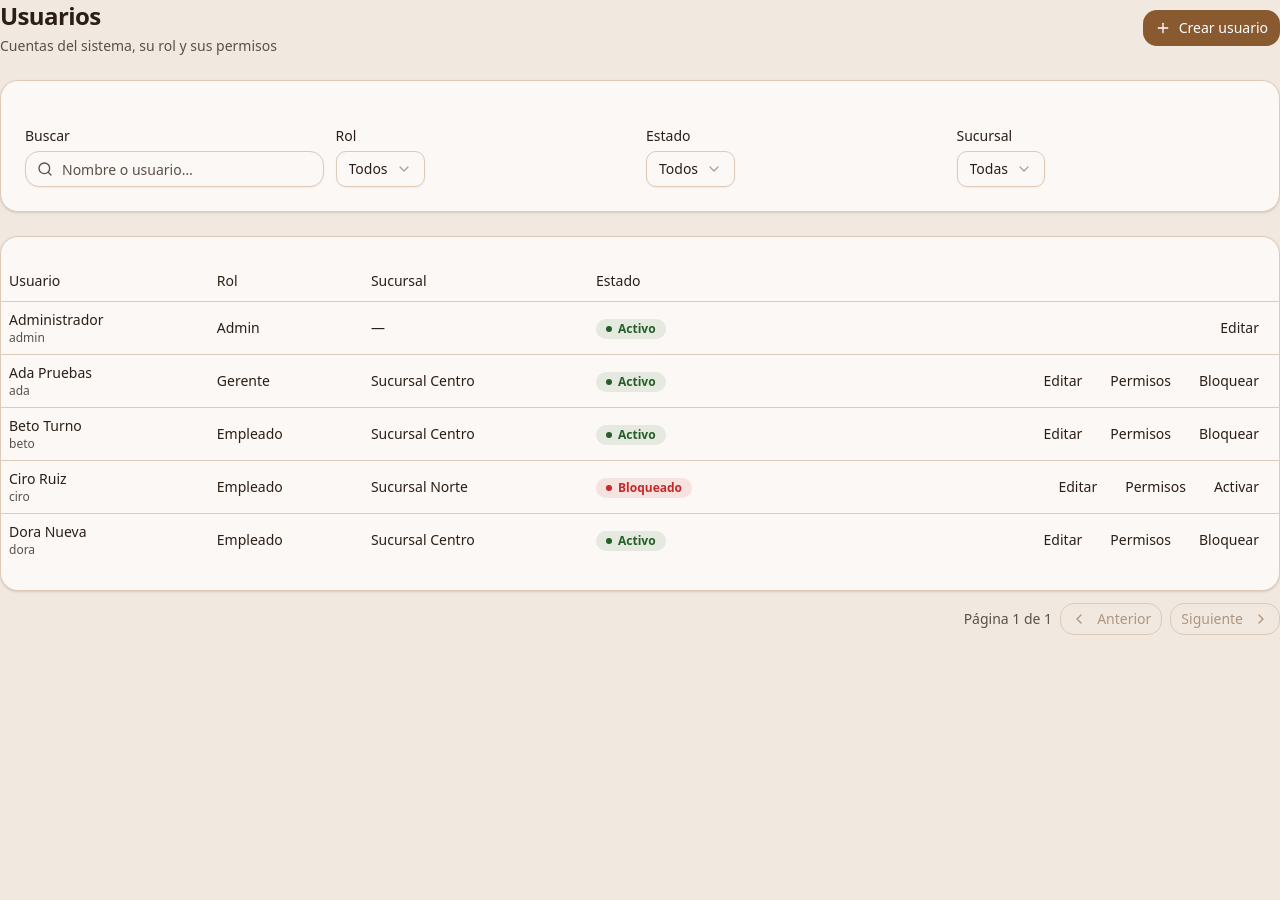
Test: Gestión de usuarios › el Admin crea un Empleado eligiendo la sucursal
Check: the text "Beto Turno" is shown, box [9, 416, 82, 434]
Click the button "Crear usuario": (1211, 28) [1143, 10, 1279, 46]
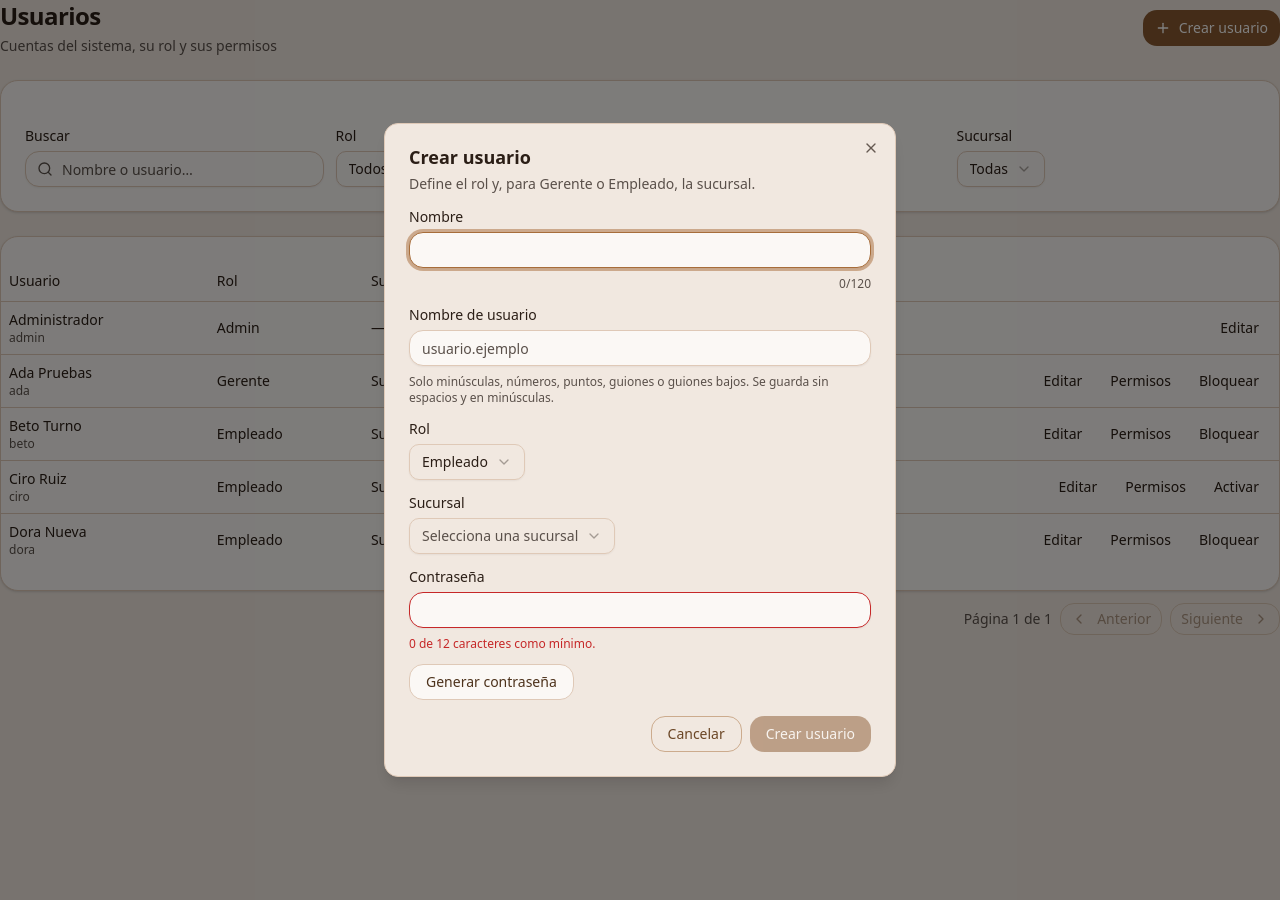
In the field labelled "Nombre": (640, 250) [409, 232, 871, 268], type "Diana Nueva"
In the field labelled "Nombre de usuario": (640, 348) [409, 330, 871, 366], type "diana"
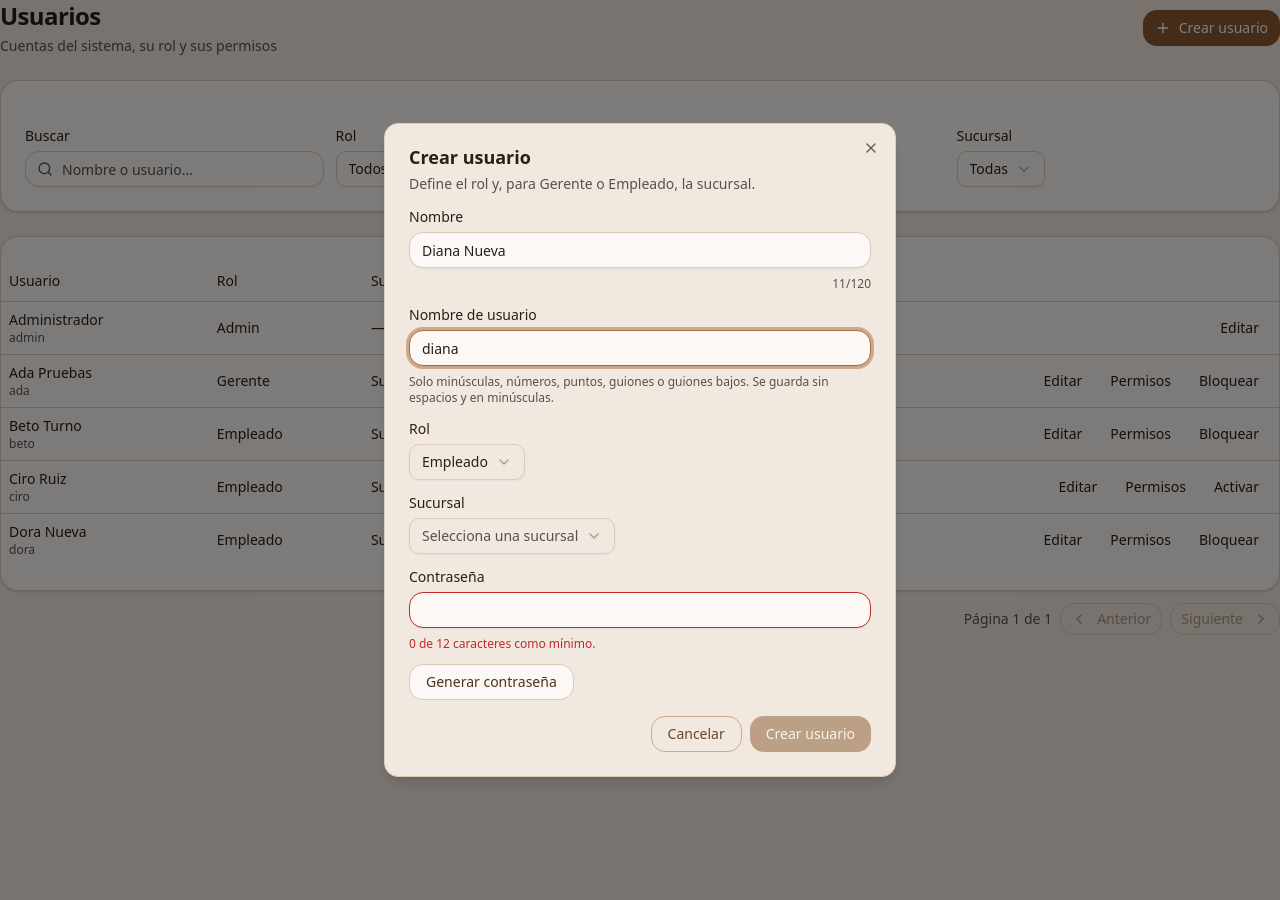
Click the dropdown labelled "sucursal": (512, 536) [409, 518, 615, 554]
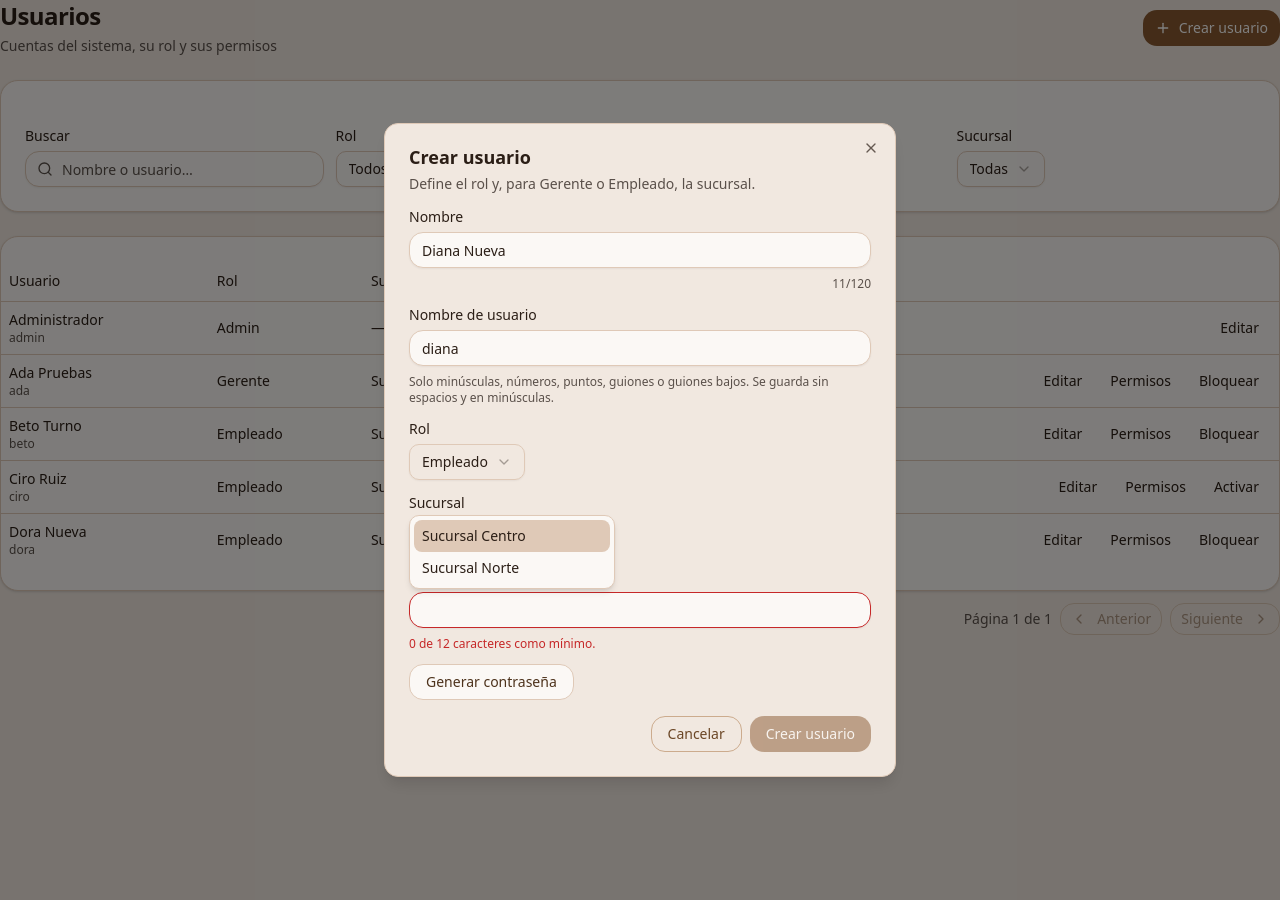
Click the option "Sucursal Norte": (471, 568) [422, 558, 519, 577]
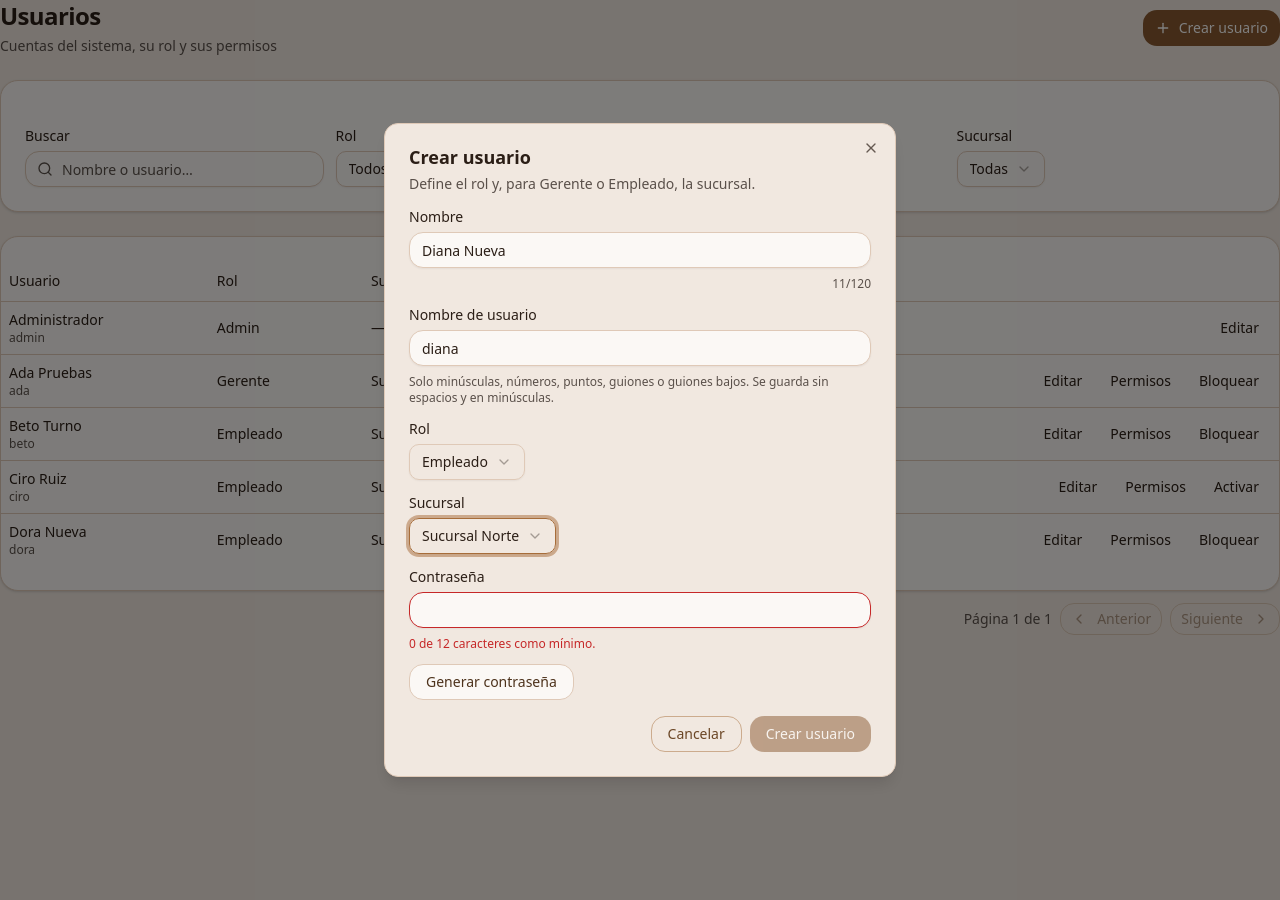
In the password field labelled "Contraseña": (640, 610) [409, 592, 871, 628], type "ContrasenaLarga123!"
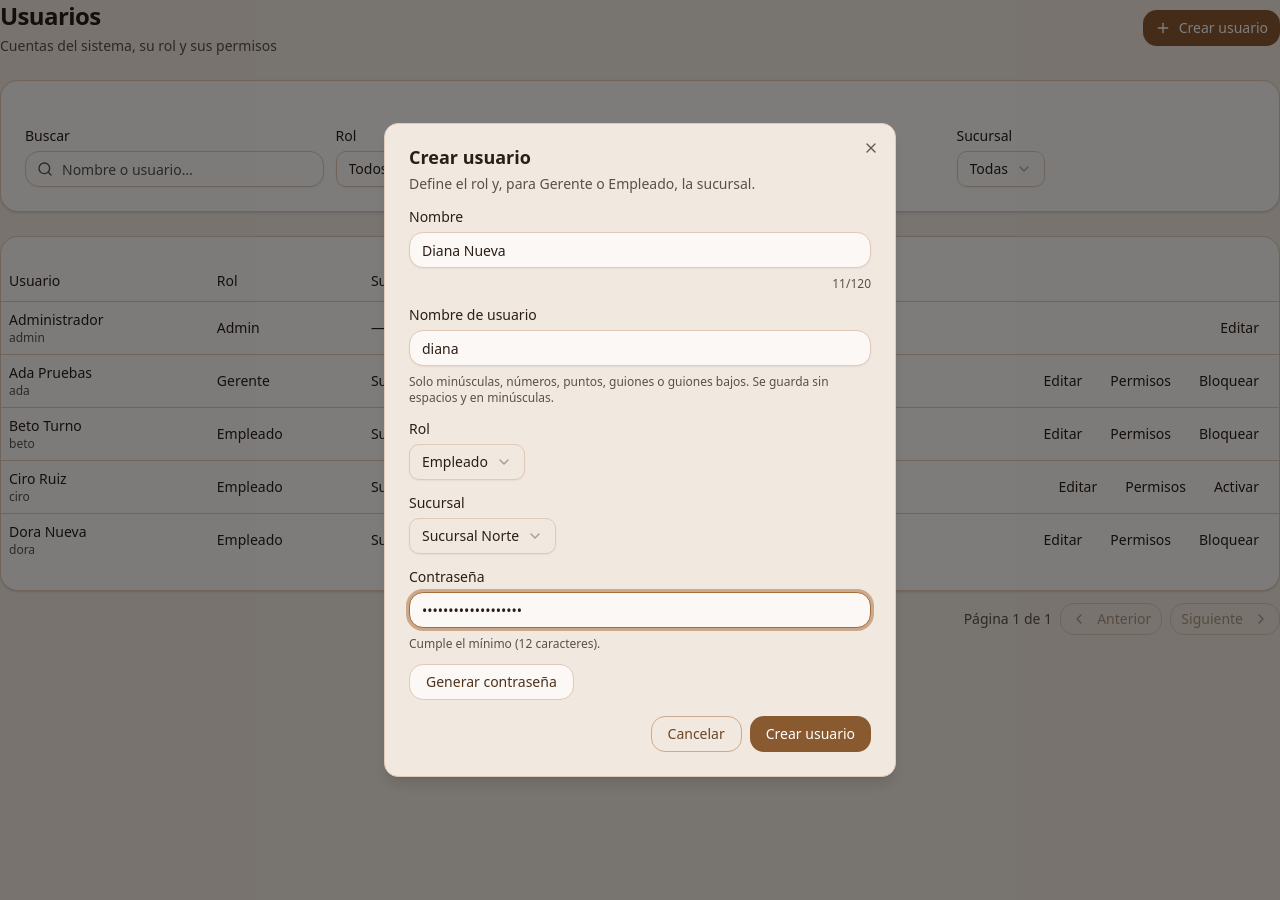
Click the button "Crear usuario": (810, 734) [750, 716, 871, 752]
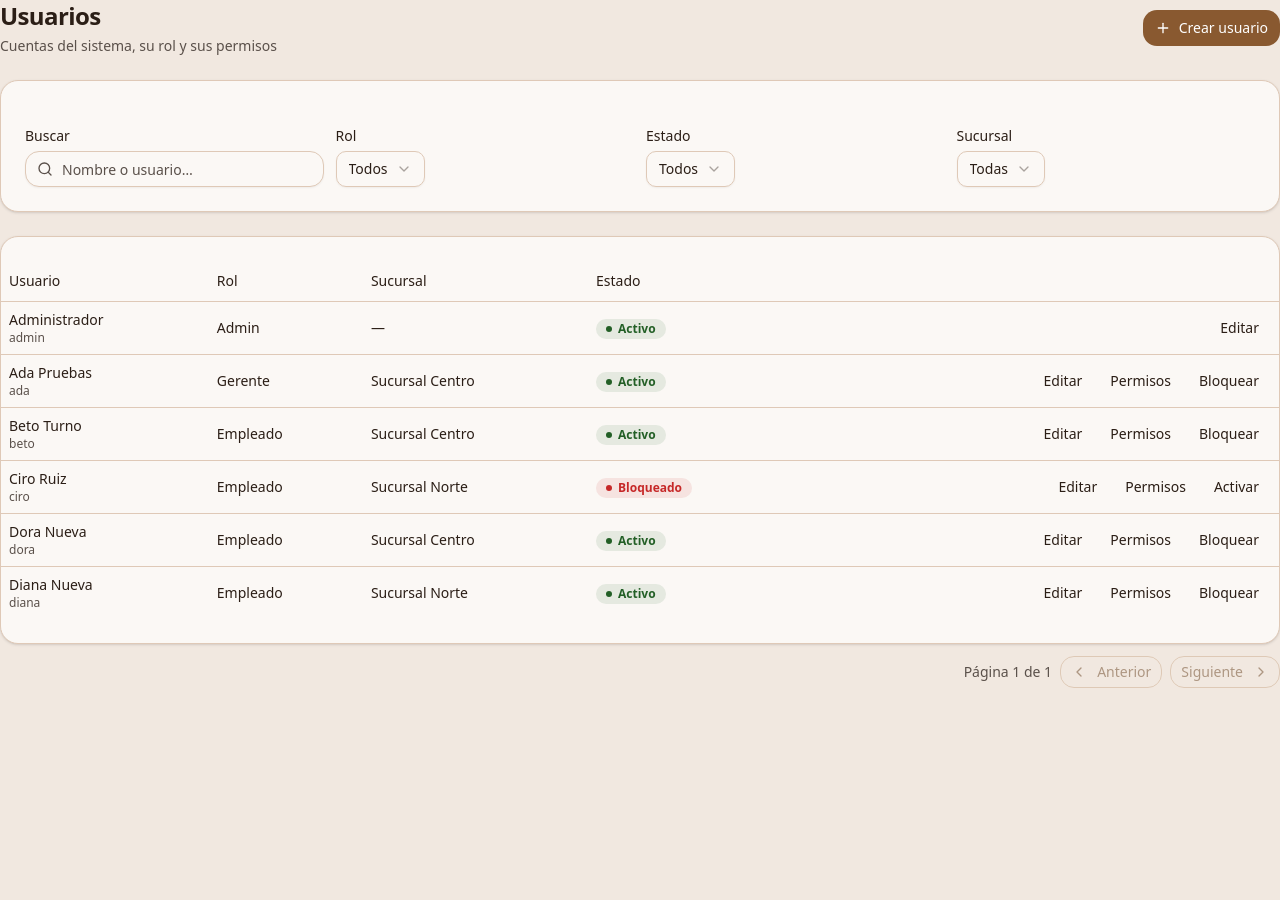
Check: the text "Diana Nueva" is shown, box [9, 574, 93, 594]
